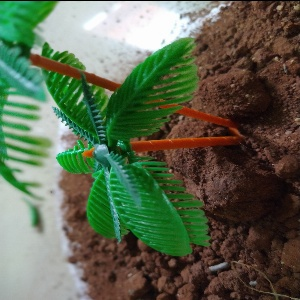plant: (1, 1, 244, 260)
